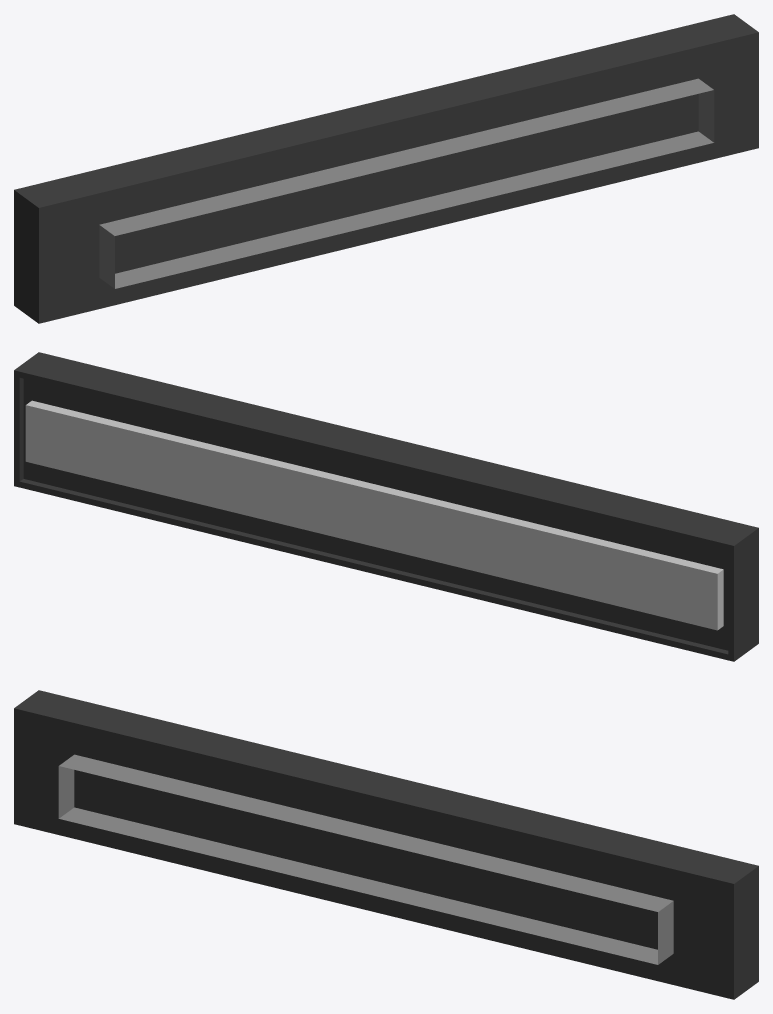
Rendered from Ceiling_Lamp_1.obj.
3 views of the same model, one above another, from view 1: azimuth 30°, elevation 25°; view 2: azimuth 150°, elevation 25°; view 3: azimuth 330°, elevation 25° (orthographic).
Parts seen in each view (by area): view 1: Ceiling_Lamp_1; view 2: Ceiling_Lamp_1; view 3: Ceiling_Lamp_1.
Boxes of the visible parts, x1,y1,x2,y2 form: Ceiling_Lamp_1: [14, 14, 758, 323]; Ceiling_Lamp_1: [14, 352, 758, 661]; Ceiling_Lamp_1: [14, 690, 758, 999].
Size of the model in its own units: 1.08 by 0.1657 by 0.111.
